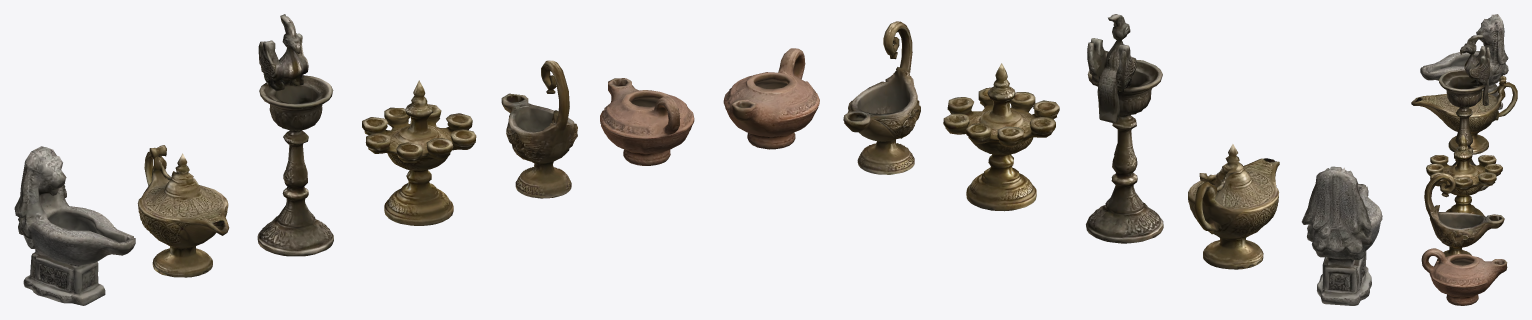
Rendered from lamps_house_oil.glb.
3 renders of one model, left to right at view 1: azimuth 30°, elevation 25°; view 2: azimuth 150°, elevation 25°; view 3: azimuth 270°, elevation 25°, orthographic. The views are drawn at different scales.
Visible parts, largest first — view 1: lamp_oil_stone, lamp_oil_pedestal, lamp_oil_multiwick, lamp_oil_genie, lamp_oil_chiragh, lamp_oil_clay; view 2: lamp_oil_pedestal, lamp_oil_multiwick, lamp_oil_stone, lamp_oil_genie, lamp_oil_chiragh, lamp_oil_clay; view 3: lamp_oil_clay, lamp_oil_pedestal, lamp_oil_multiwick, lamp_oil_chiragh, lamp_oil_genie, lamp_oil_stone.
Part boxes in pixels (left/top/right/bottom): lamp_oil_stone: left=14, top=146, right=135, bottom=305; lamp_oil_pedestal: left=257, top=14, right=333, bottom=256; lamp_oil_multiwick: left=362, top=80, right=476, bottom=225; lamp_oil_genie: left=137, top=145, right=229, bottom=277; lamp_oil_chiragh: left=501, top=60, right=577, bottom=198; lamp_oil_clay: left=600, top=78, right=694, bottom=165; lamp_oil_pedestal: left=1086, top=14, right=1163, bottom=243; lamp_oil_multiwick: left=943, top=63, right=1059, bottom=211; lamp_oil_stone: left=1301, top=166, right=1382, bottom=305; lamp_oil_genie: left=1188, top=144, right=1279, bottom=269; lamp_oil_chiragh: left=843, top=21, right=920, bottom=174; lamp_oil_clay: left=723, top=48, right=819, bottom=149; lamp_oil_clay: left=1421, top=248, right=1507, bottom=305; lamp_oil_pedestal: left=1438, top=35, right=1490, bottom=191; lamp_oil_multiwick: left=1426, top=134, right=1502, bottom=216; lamp_oil_chiragh: left=1424, top=173, right=1504, bottom=260; lamp_oil_genie: left=1411, top=75, right=1517, bottom=154; lamp_oil_stone: left=1420, top=14, right=1508, bottom=109.
Bounding box in the file's own units: 1.03 × 0.326 × 0.2134.
Materials: 1 (1 with a texture image).
